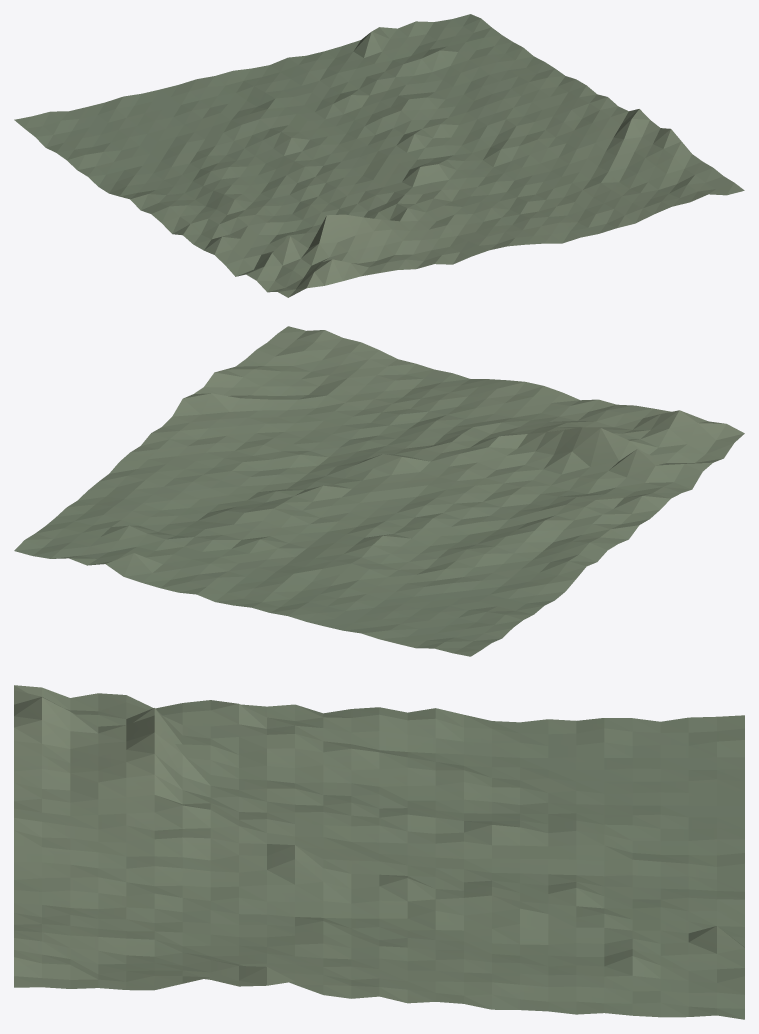
The model's file is tile_1_0.glb.
3 views of the same model, one above another, from view 1: azimuth 30°, elevation 25°; view 2: azimuth 150°, elevation 25°; view 3: azimuth 270°, elevation 25° (orthographic). The views are drawn at different scales.
Parts seen in each view (by area): view 1: geometry_0; view 2: geometry_0; view 3: geometry_0.
Part boxes in pixels (box(x1,y1,x2,y2)): geometry_0: box(14, 14, 744, 297); geometry_0: box(14, 326, 744, 656); geometry_0: box(14, 685, 744, 1019).
Size of the model in its own units: 123 by 13.36 by 127.
